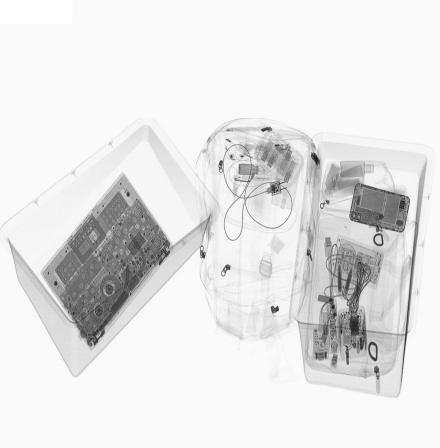Lighter: (270, 142, 292, 150)
